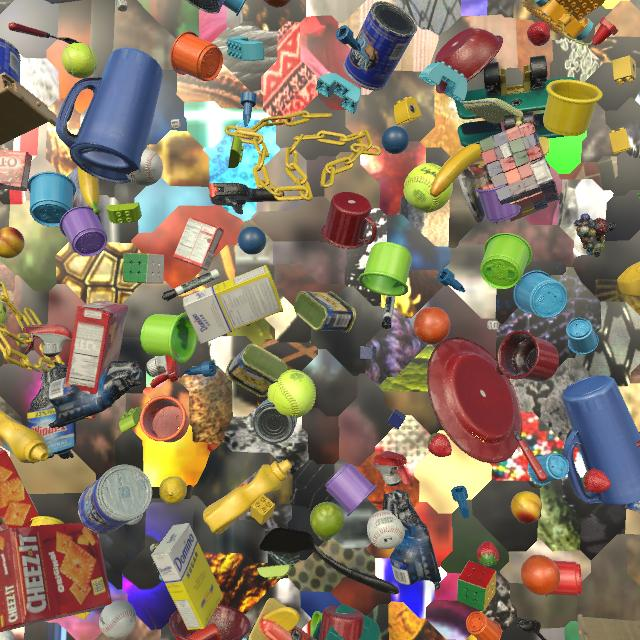ycb_002_master_chef_can: (343, 1, 417, 91), (78, 464, 152, 533), (0, 38, 21, 84), (186, 0, 225, 14)
ycb_003_cracker_box: (0, 523, 112, 632), (61, 301, 128, 419), (0, 447, 39, 531)
ycb_004_sugar_box: (183, 265, 283, 344), (151, 523, 223, 630)
ycb_006_mustard_bottle: (203, 459, 292, 534), (0, 409, 49, 463), (617, 262, 640, 297)
ycb_007_tuna_fish_can: (252, 399, 297, 444), (625, 501, 640, 512)
ycb_008_pudding_box: (46, 0, 81, 4)
ycb_009_gelatin_box: (173, 217, 224, 271), (0, 149, 32, 191)
ycb_010_potted_meat_can: (226, 343, 287, 397), (294, 291, 356, 333)
ycb_011_banana: (430, 143, 483, 197), (78, 167, 100, 214)
ycb_012_strawberry: (582, 469, 611, 493), (428, 433, 452, 457), (477, 541, 499, 567), (527, 22, 550, 46), (0, 518, 3, 525)
ycb_014_lemon: (159, 476, 187, 504)
ycb_015_peach: (511, 491, 542, 524), (0, 227, 25, 258)
ycb_016_pear: (310, 502, 344, 541)
ycb_017_orange: (521, 555, 560, 595), (414, 307, 450, 345), (263, 0, 291, 8)
